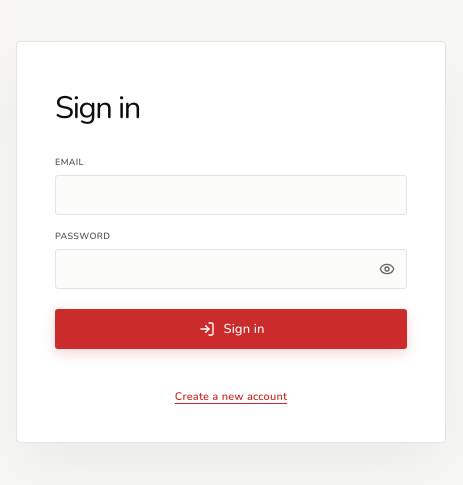
AuthPanel › shows API errors and non-Error failures
Type "m@example.com" into the field labelled "Email".
click(231, 195); type("m@example.com")  # box [55, 175, 407, 215]
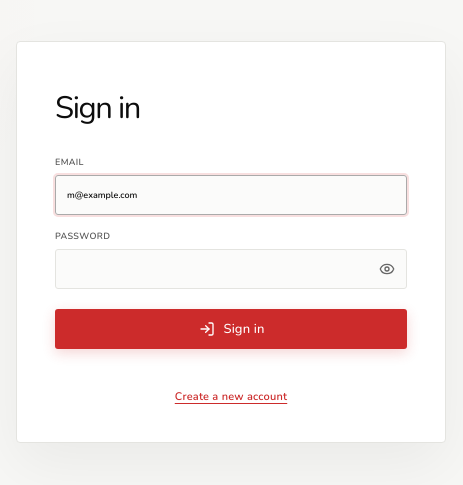
Type "password1" into the password field labelled "Password".
click(231, 269); type("password1")  # box [55, 249, 407, 289]
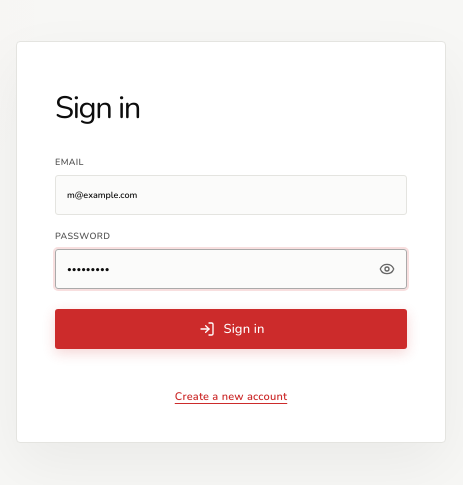
Click the button "Sign in".
click(231, 329)  # box [55, 309, 407, 349]
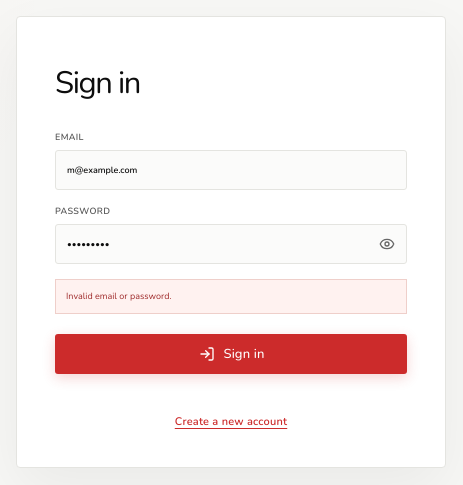
Now the text "Invalid email or password." is shown, box [55, 279, 407, 314]
Click the button "Sign in".
click(231, 354)  # box [55, 334, 407, 374]
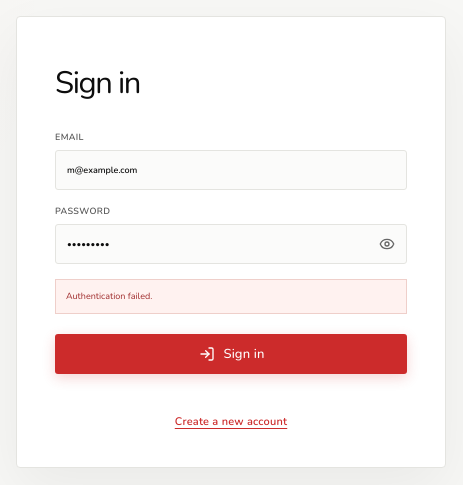
Now the text "Authentication failed." is shown, box [55, 279, 407, 314]
